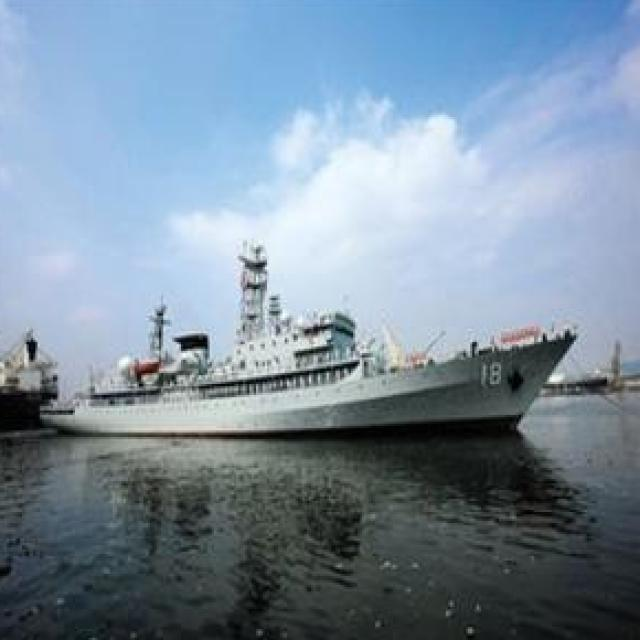navalvessels: (39, 229, 582, 440)
